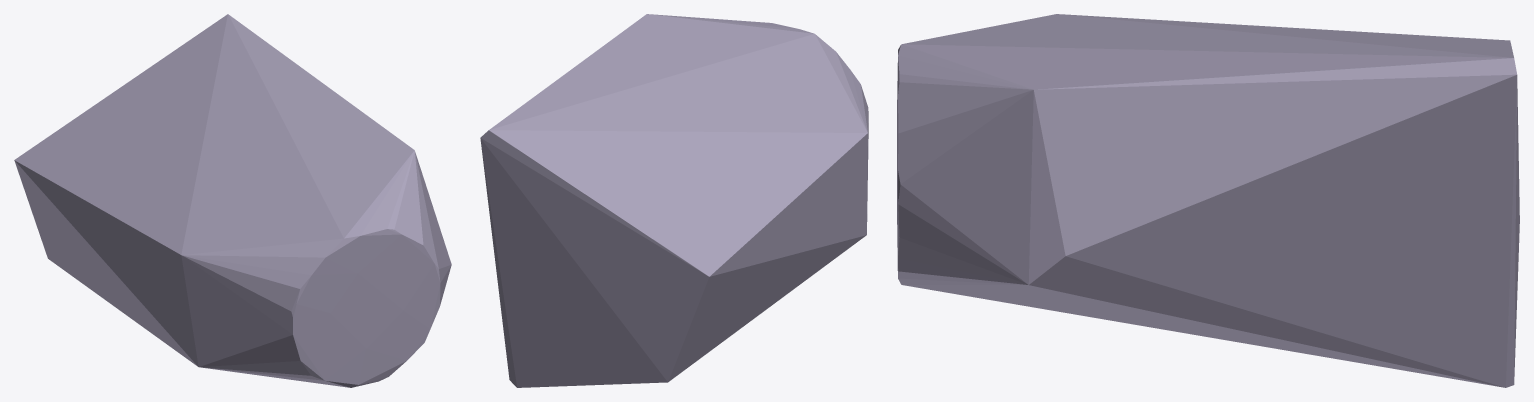
The model's file is consumable_lubricant_antiSeize_a01.glb.
3 renders of one model, left to right at view 1: azimuth 30°, elevation 25°; view 2: azimuth 150°, elevation 25°; view 3: azimuth 270°, elevation 25°, orthographic. The views are drawn at different scales.
Visible parts, largest first — view 1: geometry_0; view 2: geometry_0; view 3: geometry_0.
Boxes of the visible parts, box(x1,y1,x2,y2) form: geometry_0: box(14, 14, 451, 387); geometry_0: box(480, 14, 868, 387); geometry_0: box(897, 14, 1519, 387).
Bounding box in the file's own units: 0.3358 × 0.2943 × 0.48.
